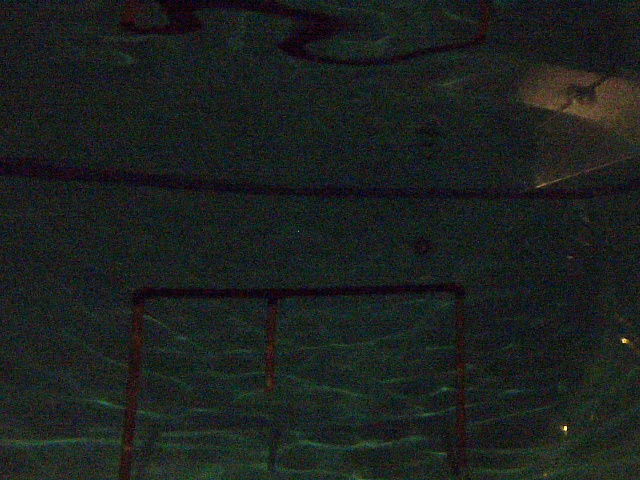Gate: (115, 301, 150, 480), (448, 293, 475, 478), (261, 300, 280, 395)
